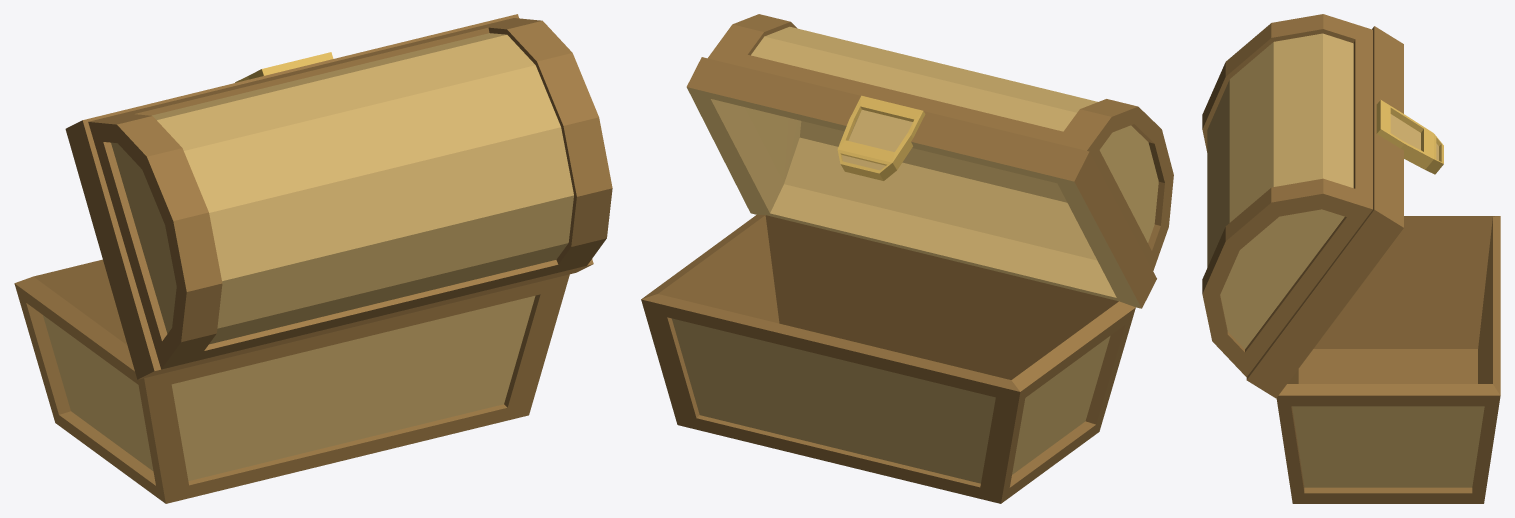
The model's file is Peti Uang.dae.
The picture shows the model from 3 angles, left to right: view 1: azimuth 30°, elevation 25°; view 2: azimuth 150°, elevation 25°; view 3: azimuth 270°, elevation 25°; orthographic projection. The views are drawn at different scales.
Parts seen in each view (by area): view 1: Plane, Plane.001, Plane.003; view 2: Plane.001, Plane, Plane.002, Plane.003; view 3: Plane, Plane.001, Plane.002, Plane.003.
Part boxes in pixels (x1,y1,x2,y2): Plane: (65, 14, 612, 379); Plane.001: (14, 259, 569, 503); Plane.003: (235, 52, 333, 82); Plane.001: (641, 215, 1135, 503); Plane: (686, 14, 1173, 308); Plane.002: (686, 57, 1089, 181); Plane.003: (837, 95, 925, 180); Plane: (1202, 14, 1403, 398); Plane.001: (1276, 216, 1500, 503); Plane.002: (1374, 26, 1403, 227); Plane.003: (1376, 100, 1443, 174).
Bounding box in the file's own units: 5.64 × 3.84 × 4.59.
